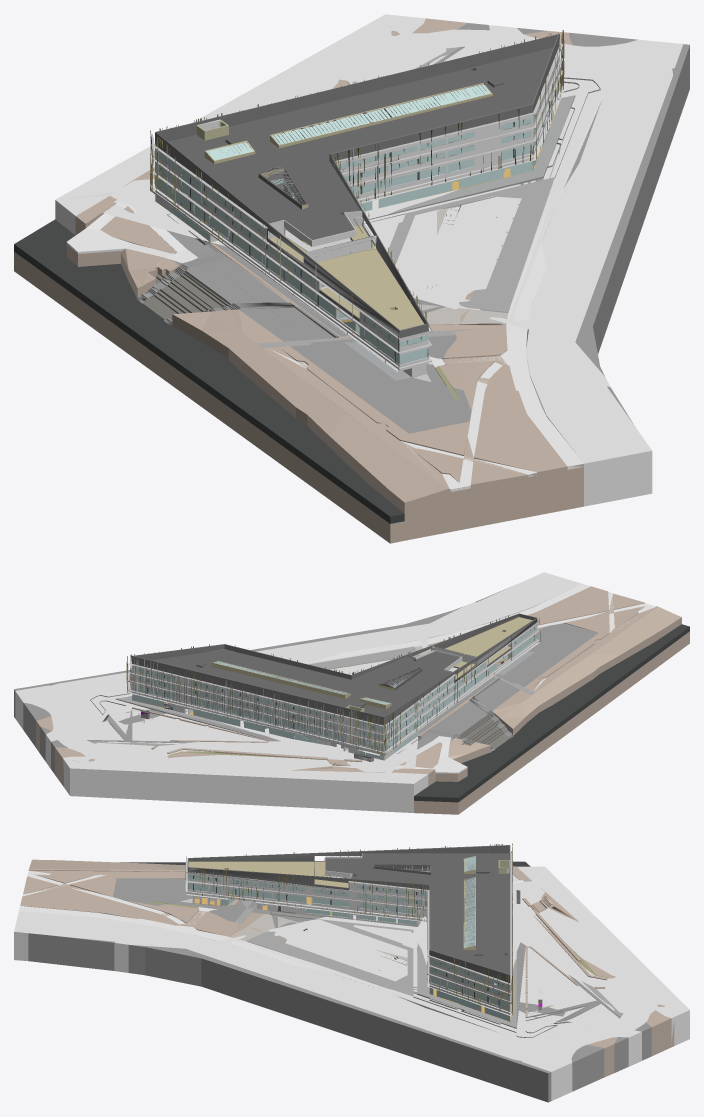
File: LOWPOLY.fbx
3 renders of one model, top to bottom at view 1: azimuth 30°, elevation 25°; view 2: azimuth 150°, elevation 25°; view 3: azimuth 270°, elevation 25°, orthographic. The views are drawn at different scales.
Visible parts, largest first — view 1: IfcWallStandardCase/SW_-_039.028; view 2: IfcWallStandardCase/SW_-_039.028; view 3: IfcWallStandardCase/SW_-_039.028.
Part boxes in pixels (bbox=[...]): IfcWallStandardCase/SW_-_039.028: bbox=[14, 14, 689, 543]; IfcWallStandardCase/SW_-_039.028: bbox=[14, 572, 689, 814]; IfcWallStandardCase/SW_-_039.028: bbox=[14, 843, 689, 1102].
Size of the model in its own units: 20200 by 3250 by 25857.
